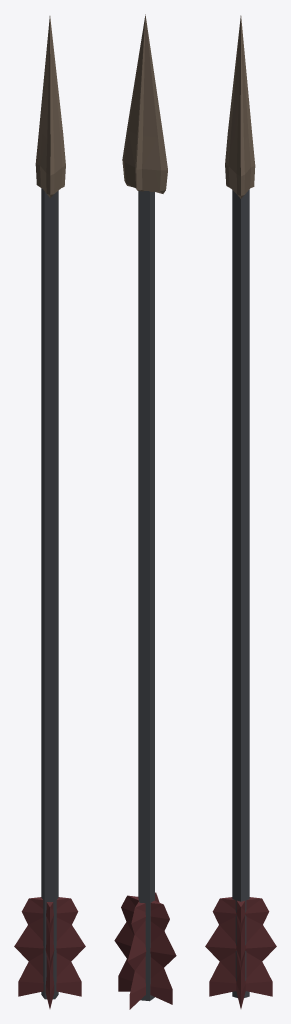
File: _arrow_b_12.glb
3 views of the same model, side by side, from view 1: azimuth 90°, elevation 25°; view 2: azimuth 150°, elevation 25°; view 3: azimuth 270°, elevation 25° (orthographic).
Visible parts, largest first — view 1: arrow_b_12; view 2: arrow_b_12; view 3: arrow_b_12.
Part boxes in pixels (x1,y1,x2,y2): arrow_b_12: (14, 16, 85, 1008); arrow_b_12: (114, 14, 176, 1009); arrow_b_12: (205, 15, 276, 1008).
Bounding box in the file's own units: 1394 × 21072 × 1394.
Materials: 1 (1 with a texture image).
